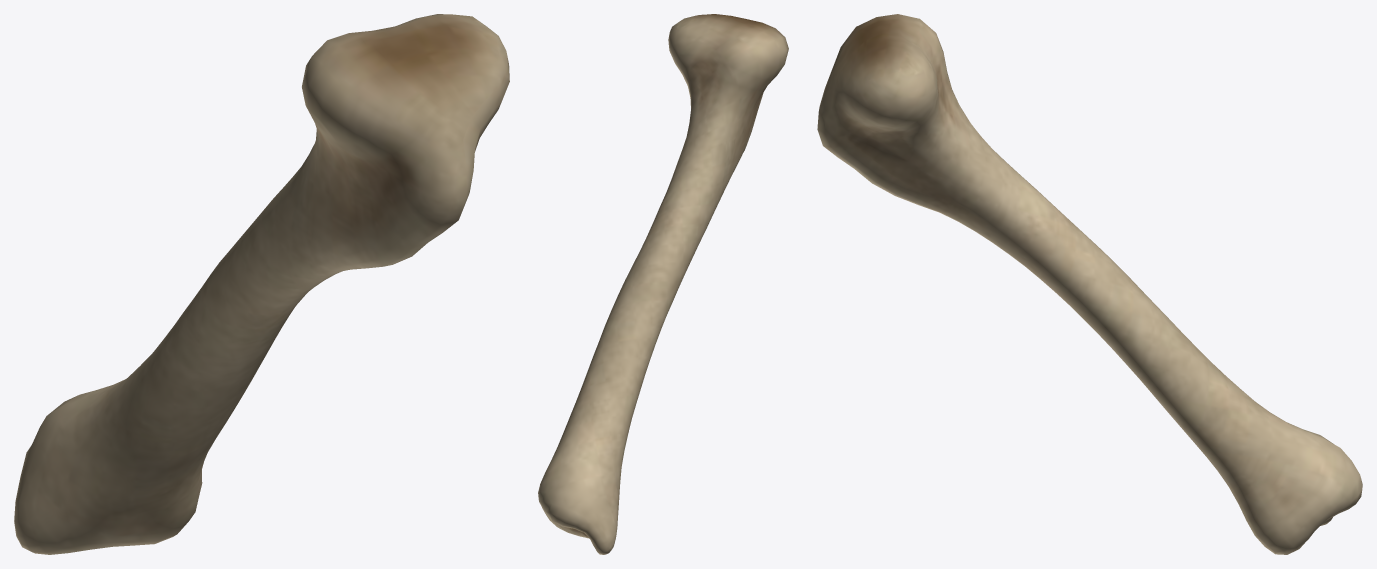
File: Tibia.glb
3 views of the same model, side by side, from view 1: azimuth 30°, elevation 25°; view 2: azimuth 150°, elevation 25°; view 3: azimuth 270°, elevation 25° (orthographic). The views are drawn at different scales.
Visible parts, largest first — view 1: polySurface12; view 2: polySurface12; view 3: polySurface12.
Boxes of the visible parts, x1=… form: polySurface12: x1=14, y1=14, x2=509, y2=554; polySurface12: x1=538, y1=14, x2=788, y2=554; polySurface12: x1=817, y1=14, x2=1362, y2=554.
Bounding box in the file's own units: 27.43 × 98.42 × 93.91.
1 material, 1 textured.
